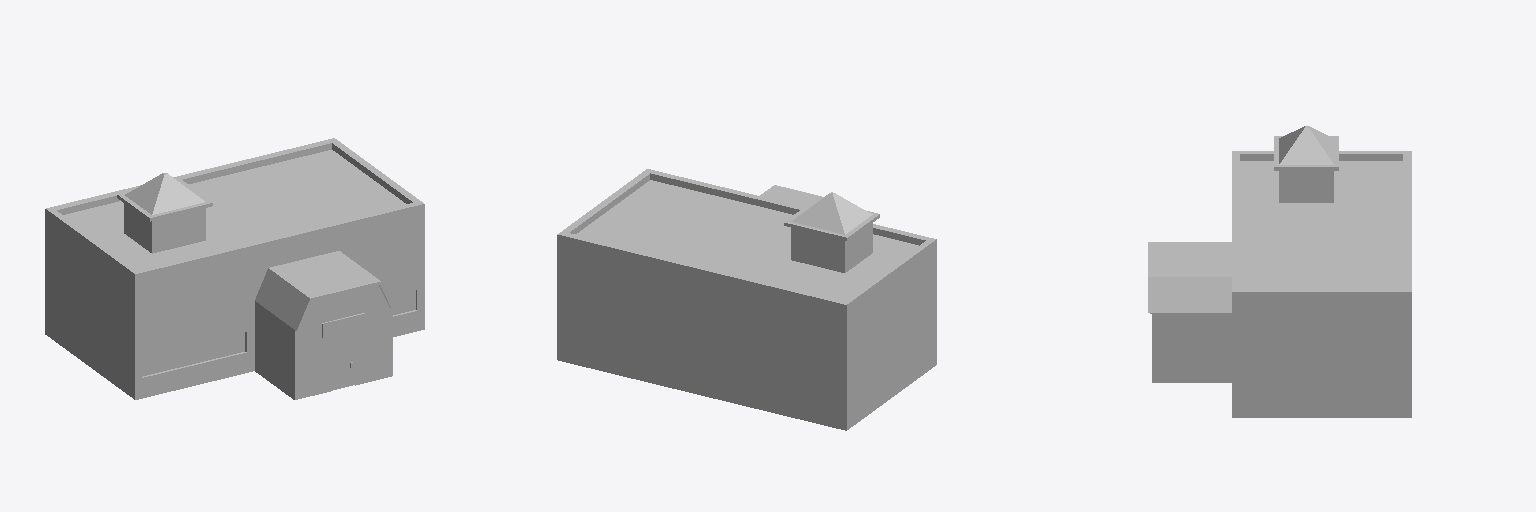
Rendered from Library Storefront.obj.
3 renders of one model, left to right at view 1: azimuth 30°, elevation 25°; view 2: azimuth 150°, elevation 25°; view 3: azimuth 270°, elevation 25°, orthographic.
Parts seen in each view (by area): view 1: polySurface1, Details; view 2: polySurface1, Details; view 3: polySurface1, Details.
Part boxes in pixels (x1,y1,x2,y2): polySurface1: (45,138,424,399); Details: (117,173,416,390); polySurface1: (557,169,936,430); Details: (784,192,879,272); polySurface1: (1148,151,1411,417); Details: (1150,126,1338,313).
Bounding box in the file's own units: 24.25 × 14.65 × 19.15.